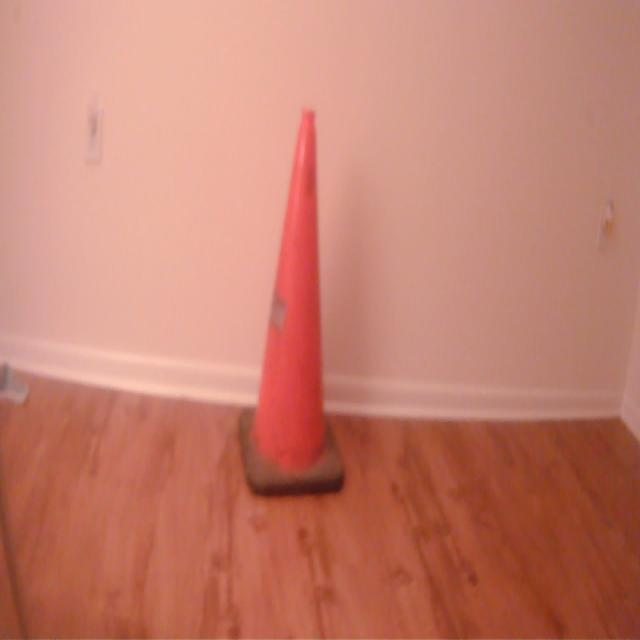traffic cone: (235, 105, 352, 504)
